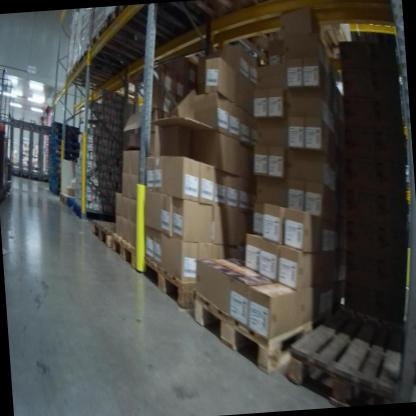pallet: (188, 272, 381, 412), (279, 287, 416, 404), (138, 248, 206, 318), (106, 3, 170, 55), (87, 23, 150, 71), (75, 40, 119, 81), (110, 230, 146, 274), (71, 56, 112, 94), (88, 216, 126, 254), (72, 200, 122, 224), (47, 120, 82, 143), (46, 137, 81, 154), (48, 142, 78, 156), (46, 131, 77, 144), (58, 192, 69, 210), (66, 195, 75, 208), (46, 155, 59, 162)
pallet_truck: (0, 54, 32, 204)
